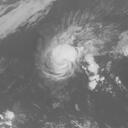cyclone: (35, 8, 115, 81)
